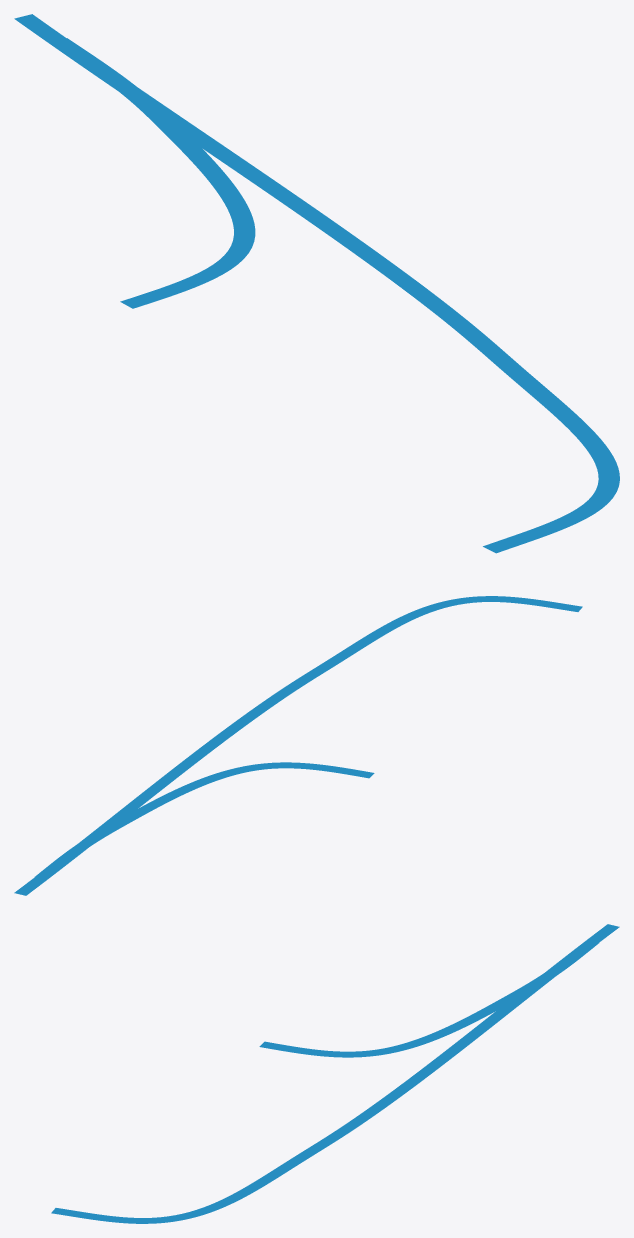
Rendered from guide.glb.
3 renders of one model, top to bottom at view 1: azimuth 30°, elevation 25°; view 2: azimuth 150°, elevation 25°; view 3: azimuth 330°, elevation 25°, orthographic. The views are drawn at different scales.
Parts seen in each view (by area): view 1: static; view 2: static; view 3: static.
Boxes of the visible parts, x1,y1,x2,y2 form: static: [14, 14, 619, 553]; static: [14, 596, 582, 895]; static: [51, 924, 619, 1223].
Size of the model in its own units: 5.13 by 0 by 20.24.
